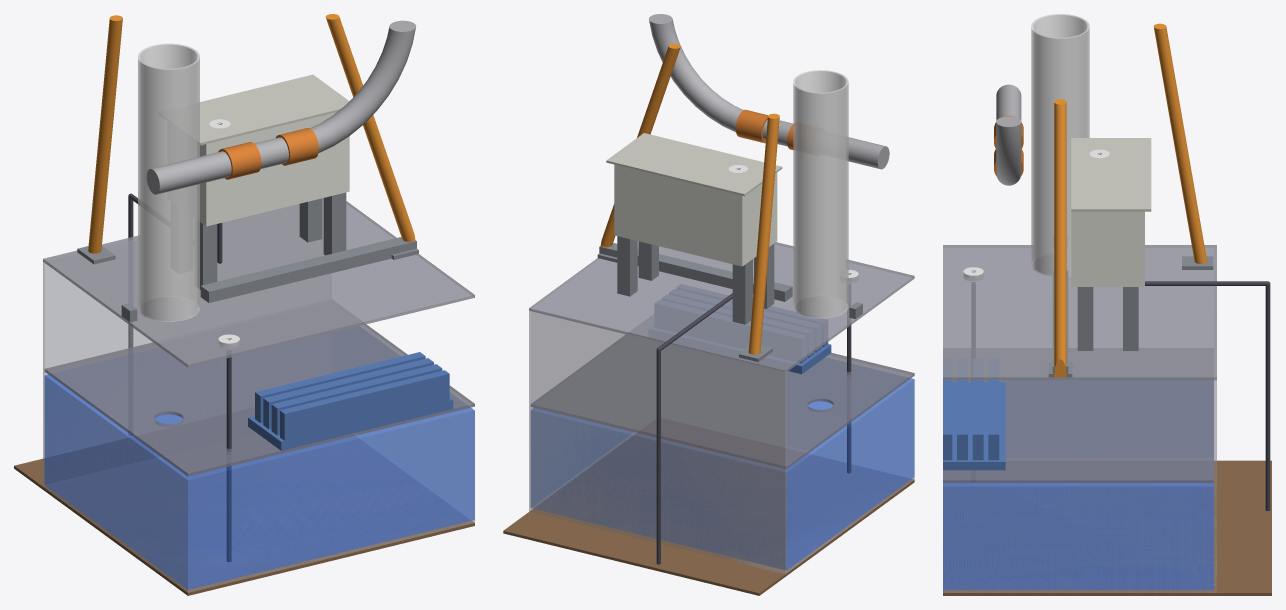
Rendered from water-station-v1.glb.
3 views of the same model, side by side, from view 1: azimuth 30°, elevation 25°; view 2: azimuth 150°, elevation 25°; view 3: azimuth 270°, elevation 25° (orthographic). The views are drawn at different scales.
Visible parts, largest first — view 1: tank, water_volume, ground, lid, shelf, growing_pipe, seedling_storage, track_loop, ws_door, lower_aframe_and_back_strut_16mm, ws_roof, base_bar_and_lid_plates (+6 smaller); view 2: tank, water_volume, shelf, ground, lid, growing_pipe, ws_shell, seedling_storage, ws_roof, lower_aframe_and_back_strut_16mm, track_loop, ws_legs (+4 smaller); view 3: ground, tank, water_volume, lid, shelf, growing_pipe, lower_aframe_and_back_strut_16mm, seedling_storage, ws_roof, ws_shell, track_loop, ws_legs (+2 smaller).
Boxes of the visible parts, bbox=[...] form: tank: bbox=[43, 262, 474, 592]; water_volume: bbox=[44, 374, 474, 589]; ground: bbox=[14, 436, 474, 595]; lid: bbox=[43, 198, 474, 367]; shelf: bbox=[44, 324, 474, 476]; growing_pipe: bbox=[138, 43, 199, 321]; seedling_storage: bbox=[248, 352, 453, 450]; track_loop: bbox=[146, 20, 416, 194]; ws_door: bbox=[208, 113, 347, 223]; lower_aframe_and_back_strut_16mm: bbox=[88, 14, 415, 253]; ws_roof: bbox=[197, 74, 349, 145]; base_bar_and_lid_plates: bbox=[77, 237, 418, 322]; tank: bbox=[529, 311, 914, 573]; water_volume: bbox=[531, 378, 914, 570]; shelf: bbox=[531, 334, 914, 469]; ground: bbox=[503, 434, 914, 595]; lid: bbox=[529, 241, 914, 372]; growing_pipe: bbox=[793, 70, 848, 318]; ws_shell: bbox=[614, 164, 777, 266]; seedling_storage: bbox=[649, 284, 831, 374]; ws_roof: bbox=[606, 133, 782, 196]; lower_aframe_and_back_strut_16mm: bbox=[600, 43, 779, 354]; track_loop: bbox=[649, 14, 889, 169]; ws_legs: bbox=[617, 236, 774, 324]; ground: bbox=[943, 460, 1271, 595]; tank: bbox=[943, 248, 1216, 592]; water_volume: bbox=[943, 483, 1213, 590]; lid: bbox=[943, 245, 1216, 380]; shelf: bbox=[943, 380, 1213, 482]; growing_pipe: bbox=[1031, 14, 1089, 276]; lower_aframe_and_back_strut_16mm: bbox=[1054, 23, 1207, 377]; seedling_storage: bbox=[943, 359, 1005, 470]; ws_roof: bbox=[1071, 138, 1151, 211]; ws_shell: bbox=[1071, 211, 1144, 286]; track_loop: bbox=[996, 84, 1021, 185]; ws_legs: bbox=[1077, 287, 1138, 350].
Size of the model in its own units: 400 by 644 by 420.
